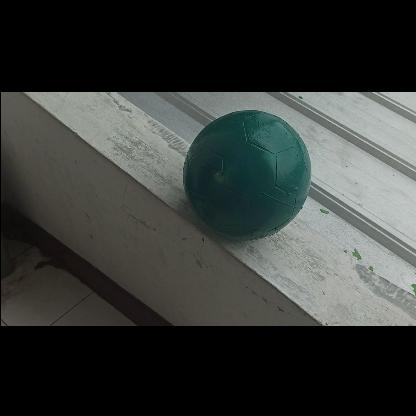green_ball: (182, 110, 312, 238)
